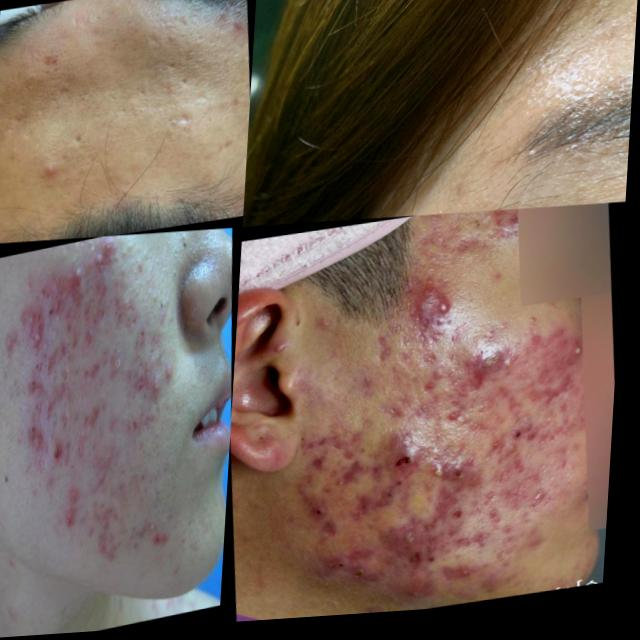8: (36, 158, 63, 190), (97, 239, 118, 272), (166, 359, 185, 394)
9: (556, 343, 596, 380), (433, 296, 459, 330), (151, 371, 171, 406)
blackheads: (318, 558, 386, 610), (460, 347, 516, 408), (410, 280, 442, 373), (381, 530, 441, 575), (379, 435, 429, 487), (524, 385, 588, 425), (429, 458, 488, 501), (18, 303, 48, 362), (368, 332, 405, 373), (337, 464, 374, 502), (435, 564, 480, 595), (24, 417, 50, 466), (62, 127, 94, 164), (459, 537, 499, 564), (51, 83, 79, 120), (296, 434, 341, 456), (170, 109, 195, 143), (304, 457, 335, 483), (169, 75, 196, 95), (490, 442, 515, 463)
dark spot: (466, 223, 488, 248)
